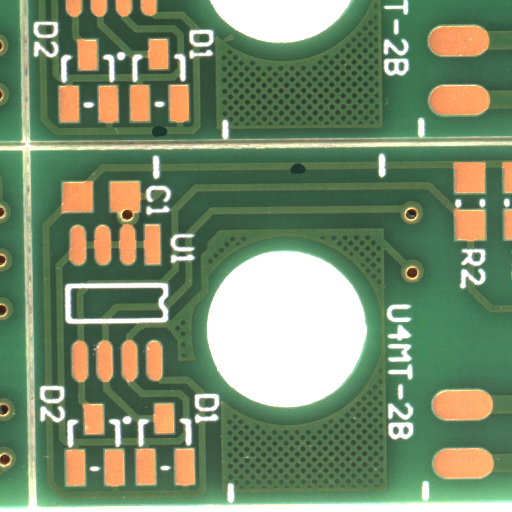Mouse_bite: (297, 168, 315, 181), (159, 131, 176, 144)
